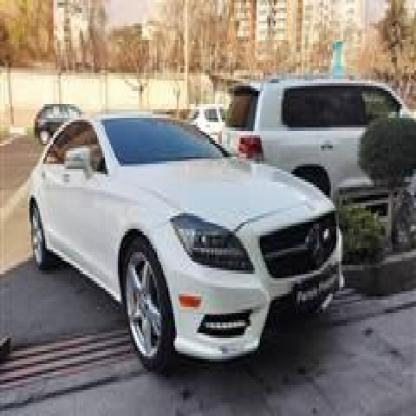Car: (23, 125, 348, 377), (211, 62, 416, 224), (24, 91, 87, 166)
